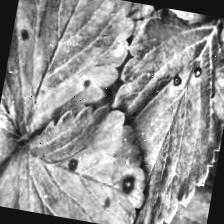Leaf Spot: (92, 1, 224, 224), (0, 86, 161, 224), (0, 0, 139, 151), (0, 0, 48, 196)
